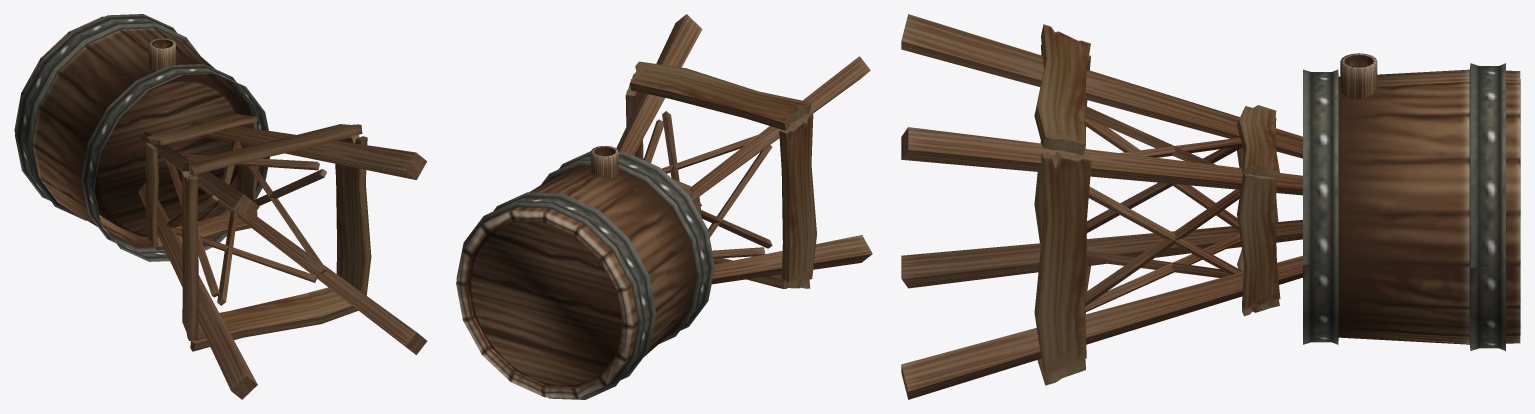
File: Waterbarrel.FBX
The picture shows the model from 3 angles, left to right: view 1: azimuth 30°, elevation 25°; view 2: azimuth 150°, elevation 25°; view 3: azimuth 270°, elevation 25°; orthographic projection. The views are drawn at different scales.
Visible parts, largest first — view 1: Waterbarrel_base, Waterbarrel_01, Waterbarrel_02; view 2: Waterbarrel_01, Waterbarrel_base, Waterbarrel_02; view 3: Waterbarrel_base, Waterbarrel_01, Waterbarrel_02.
Boxes of the visible parts, left/top/right/bottom form: Waterbarrel_base: left=138, top=114, right=427, bottom=399; Waterbarrel_01: left=14, top=14, right=269, bottom=261; Waterbarrel_02: left=148, top=38, right=175, bottom=71; Waterbarrel_01: left=456, top=151, right=714, bottom=399; Waterbarrel_base: left=616, top=14, right=872, bottom=288; Waterbarrel_02: left=591, top=146, right=618, bottom=178; Waterbarrel_base: left=901, top=14, right=1302, bottom=399; Waterbarrel_01: left=1303, top=63, right=1520, bottom=350; Waterbarrel_02: left=1340, top=53, right=1377, bottom=98.
Size of the model in its own units: 3.47 by 3.58 by 7.04.
